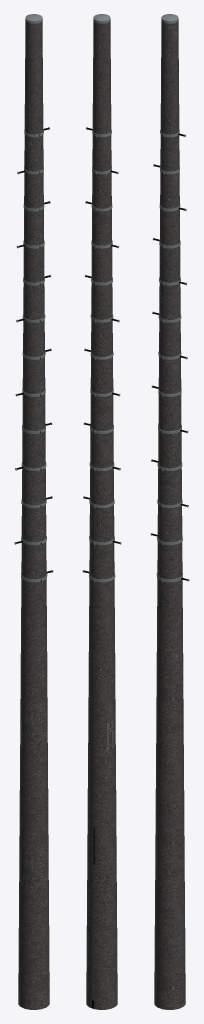
The model's file is pole_body_tapered_12m_visible10m.glb.
3 renders of one model, left to right at view 1: azimuth 30°, elevation 25°; view 2: azimuth 150°, elevation 25°; view 3: azimuth 330°, elevation 25°, orthographic.
Parts seen in each view (by area): view 1: pole_body_tapered_12m_visible10m; view 2: pole_body_tapered_12m_visible10m; view 3: pole_body_tapered_12m_visible10m.
Part boxes in pixels (<box>): pole_body_tapered_12m_visible10m: <box>14,14,53,1009</box>; pole_body_tapered_12m_visible10m: <box>82,14,121,1009</box>; pole_body_tapered_12m_visible10m: <box>150,14,189,1009</box>.
Bounding box in the file's own units: 0.4803 × 12.01 × 0.3576.
1 material, 1 textured.
